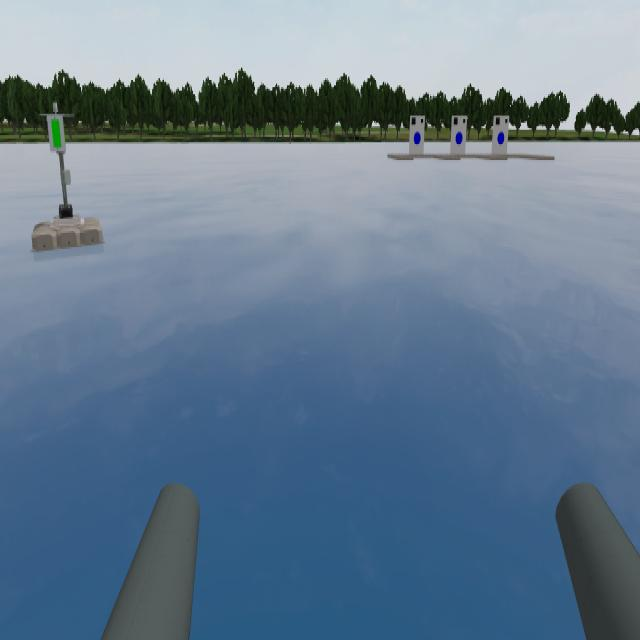green_pole: (43, 97, 75, 184)
